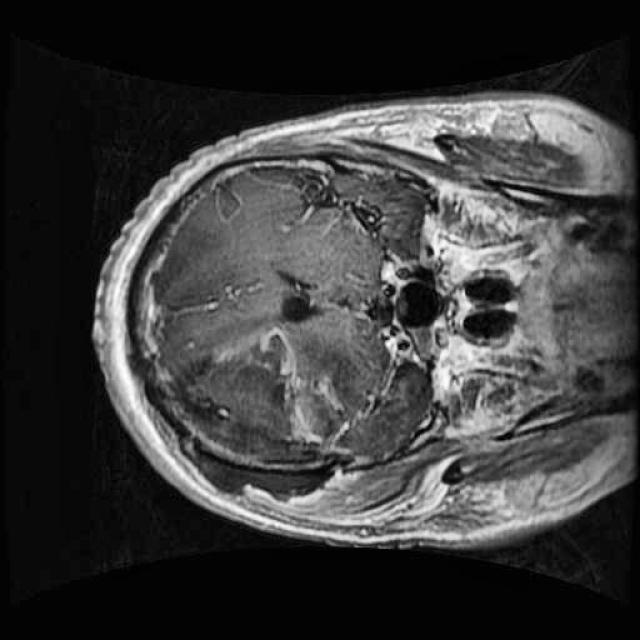Non-Tumor: (159, 322, 383, 492)
